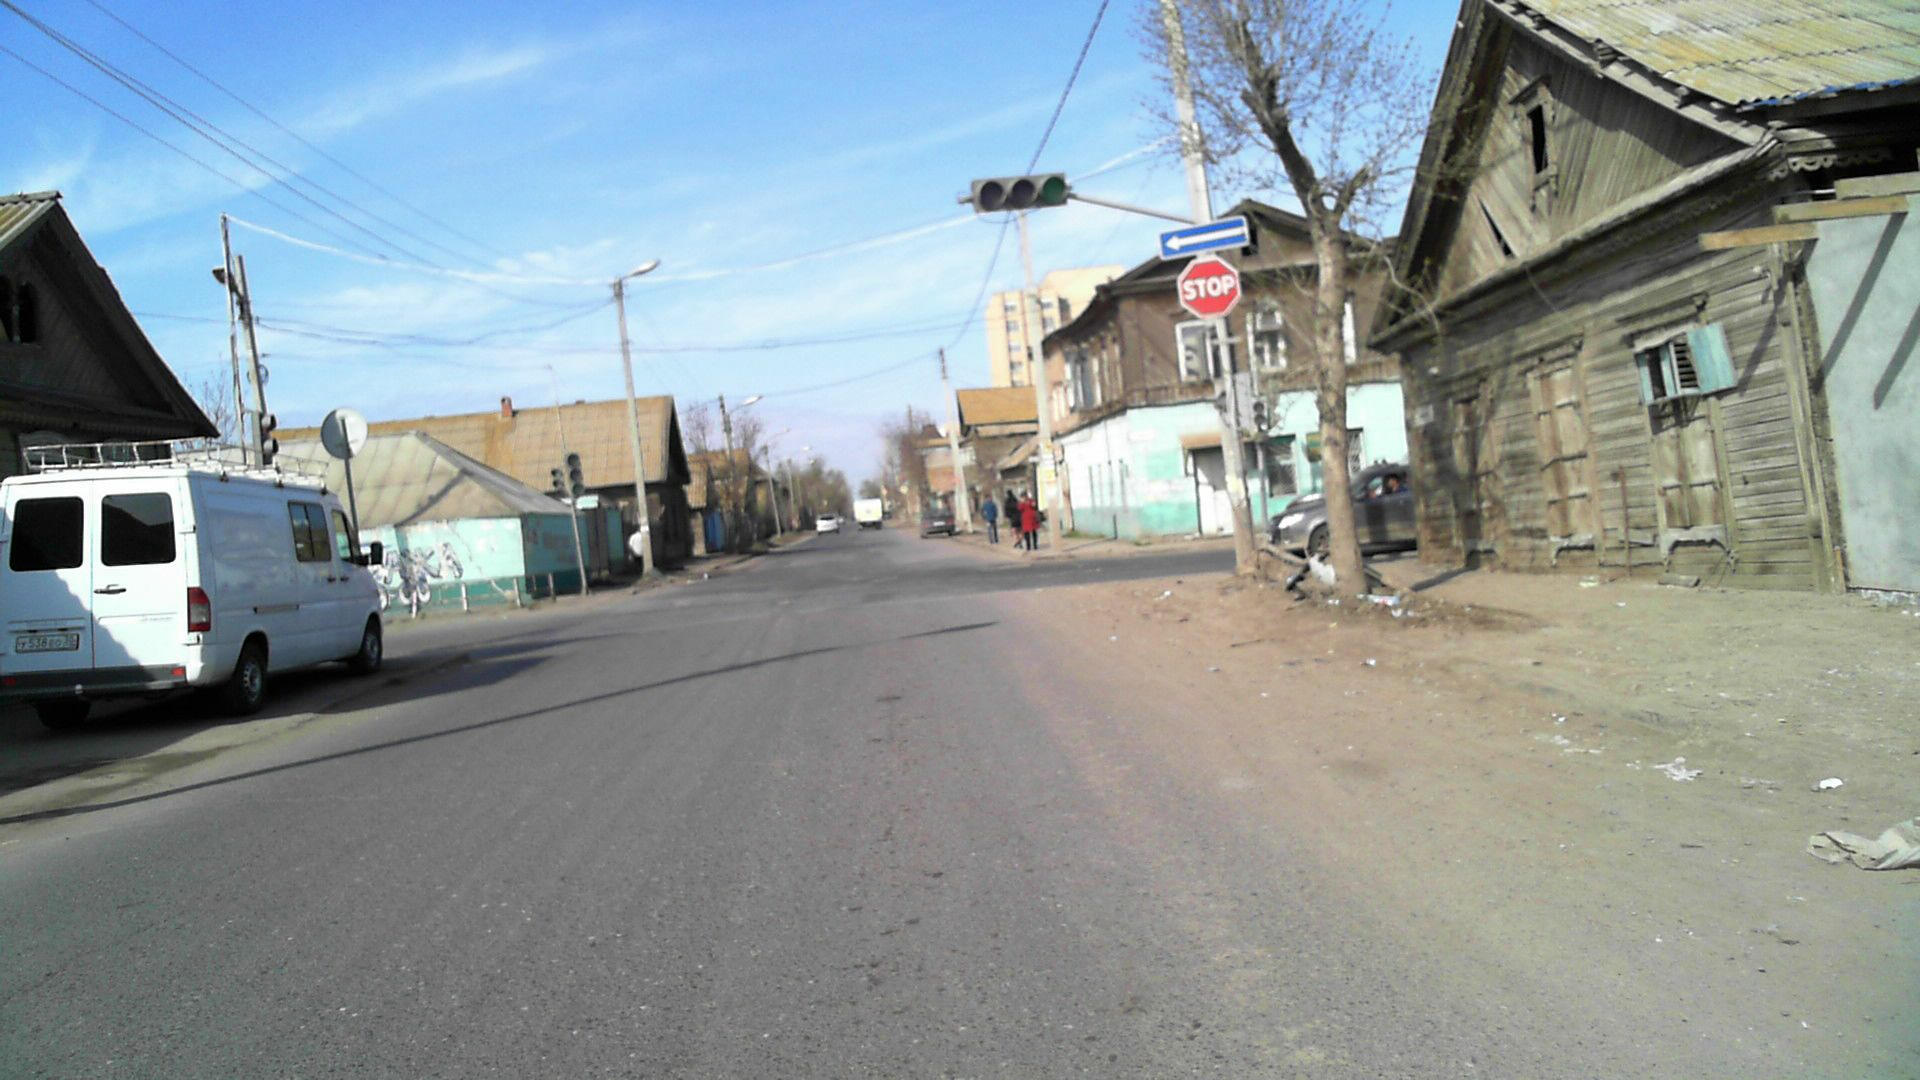One-Way Traffic: (1160, 218, 1247, 256)
